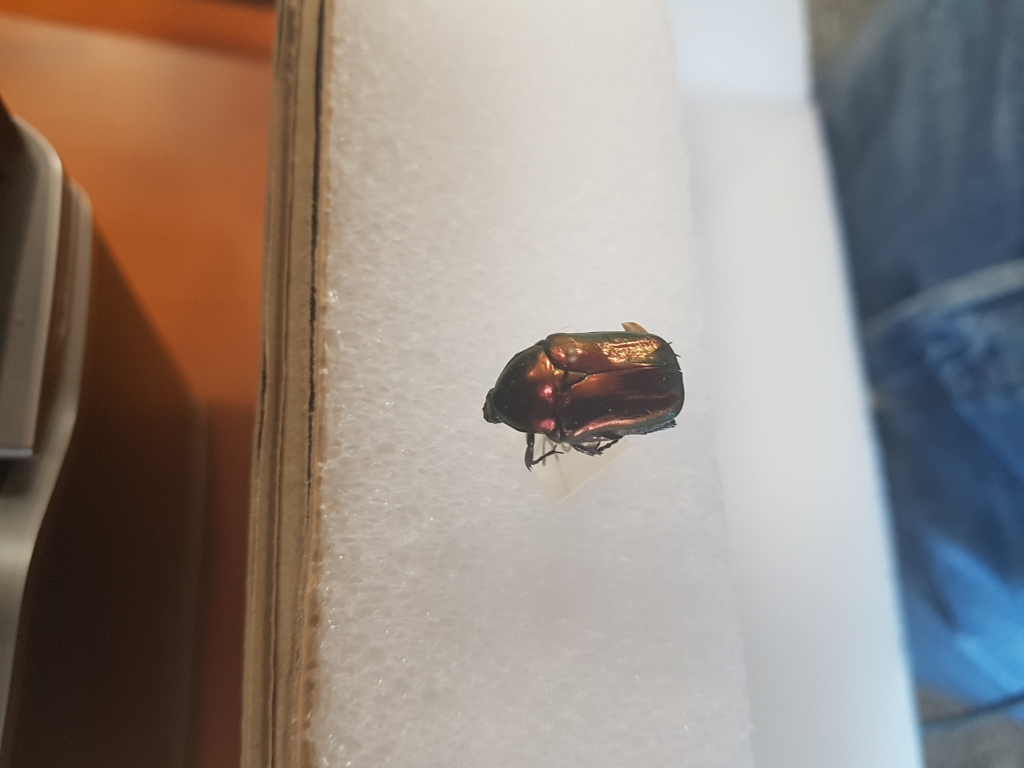Protaetia_cuprea_ignicollis: (474, 314, 698, 460)
